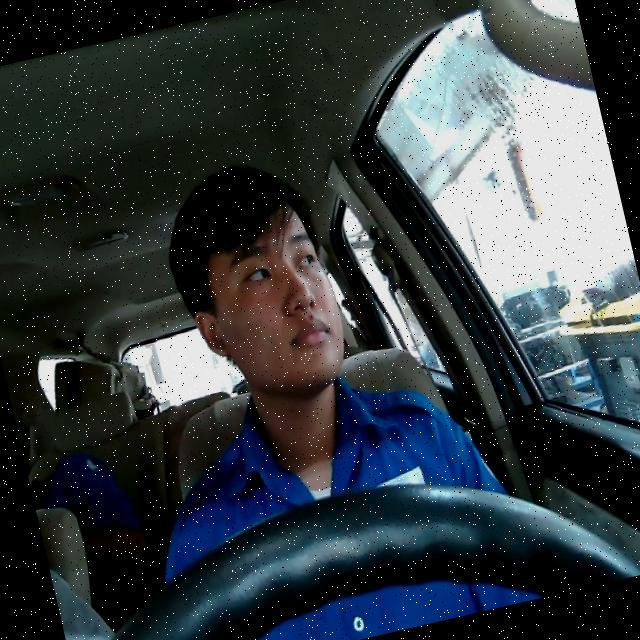seeing_right: (170, 191, 357, 418)
